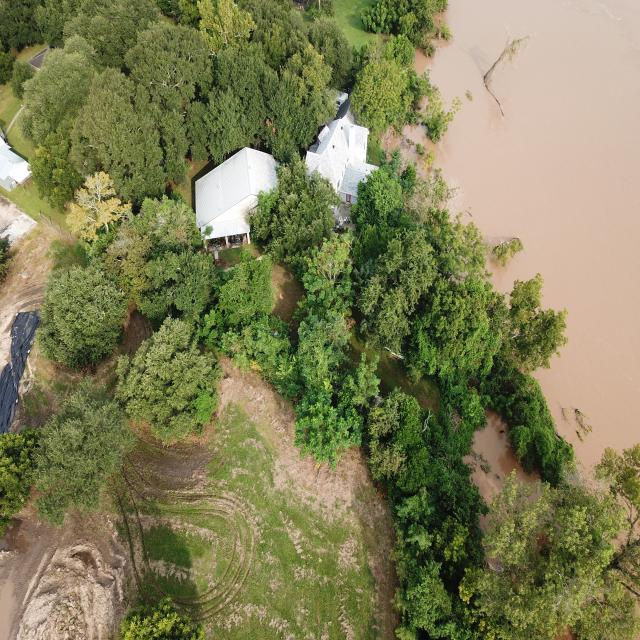fire: (416, 0, 640, 469)
